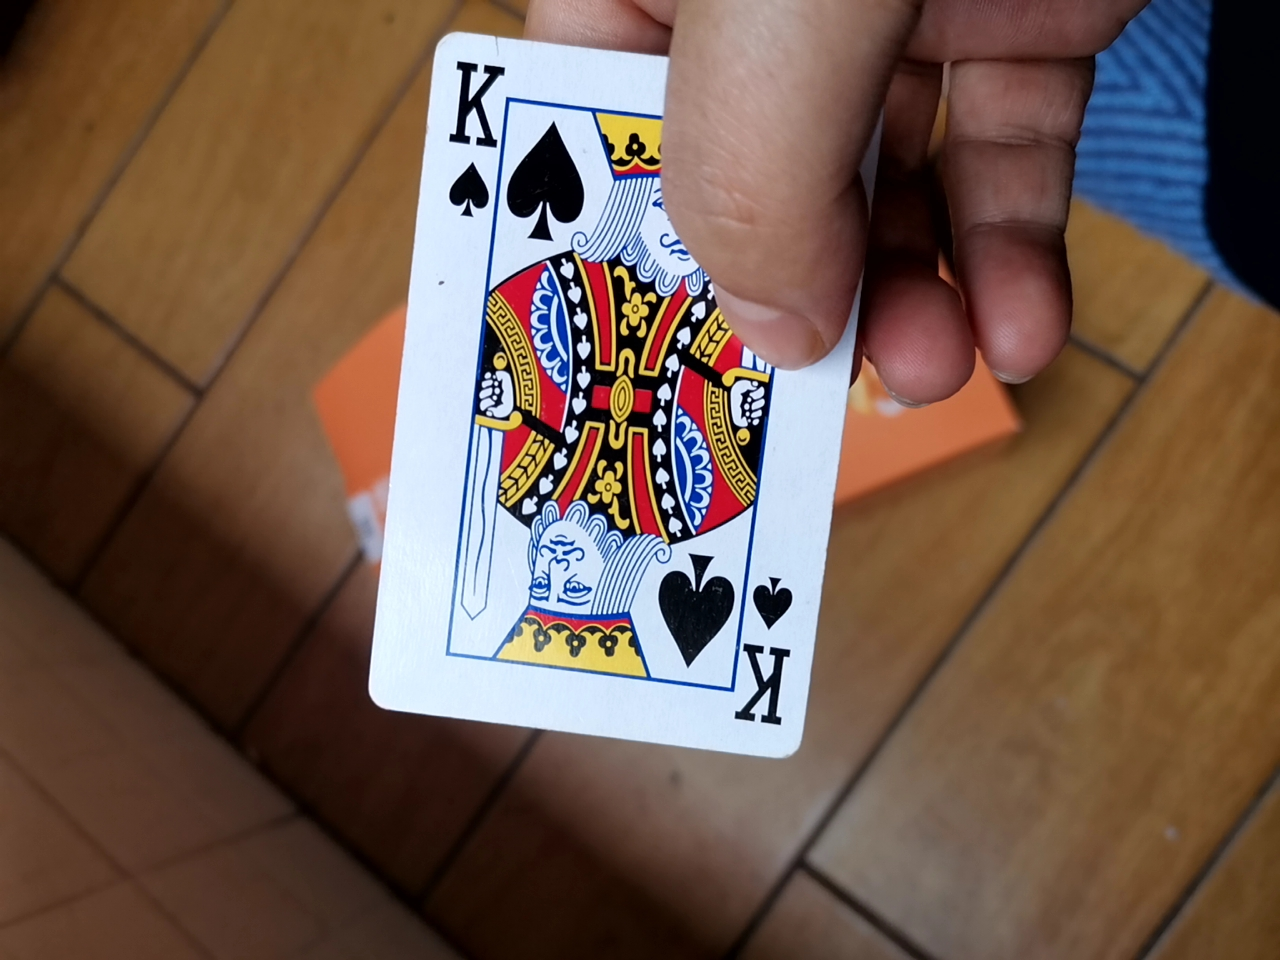ht k: (370, 37, 857, 784)
